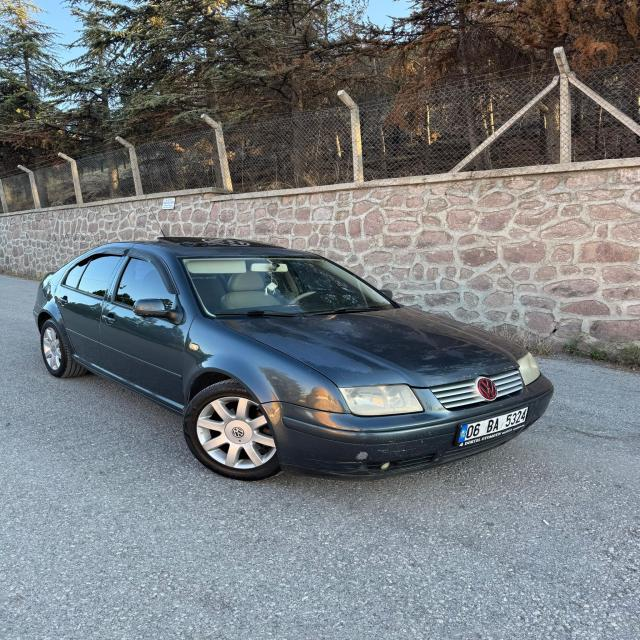wolksvogen: (466, 375, 505, 402)
